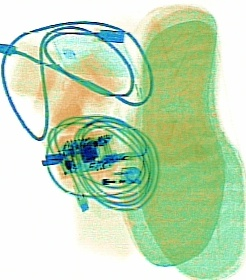lighter: (62, 162, 144, 191)
